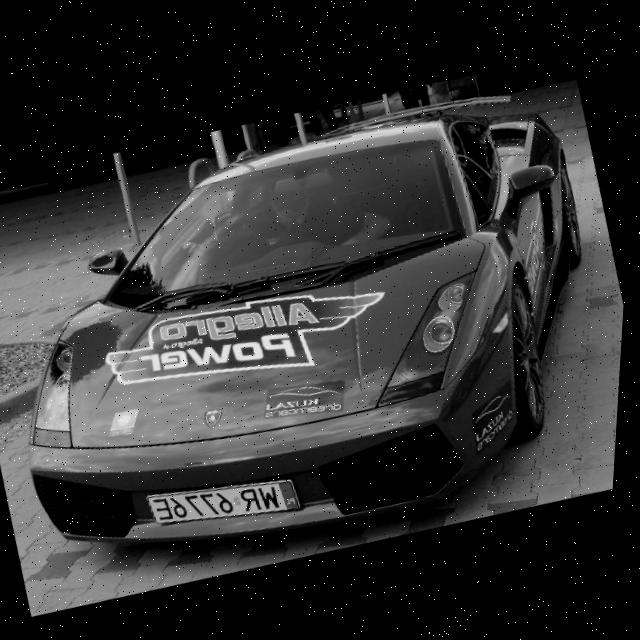license-plates: (146, 480, 298, 524)
